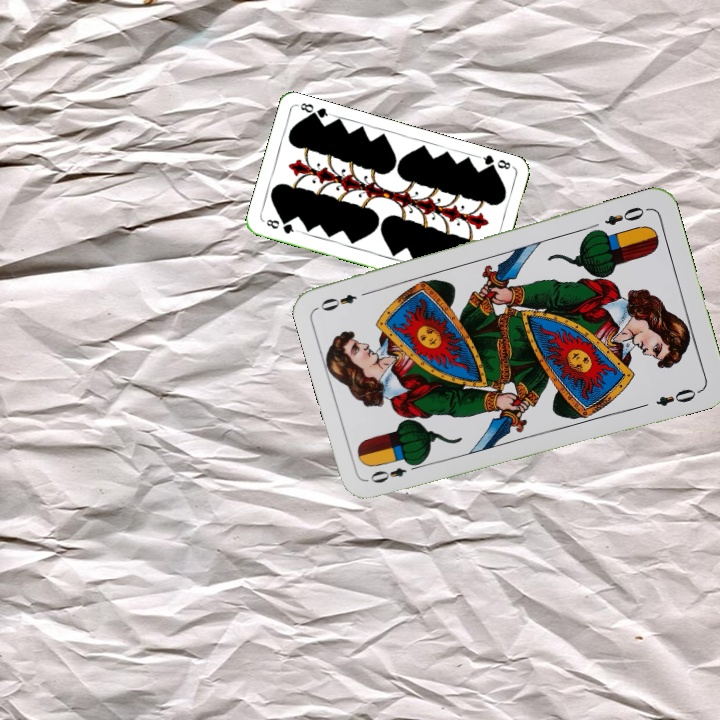EO: (366, 458, 423, 486), (600, 202, 652, 228)
G8: (475, 151, 515, 174), (262, 215, 300, 236)
